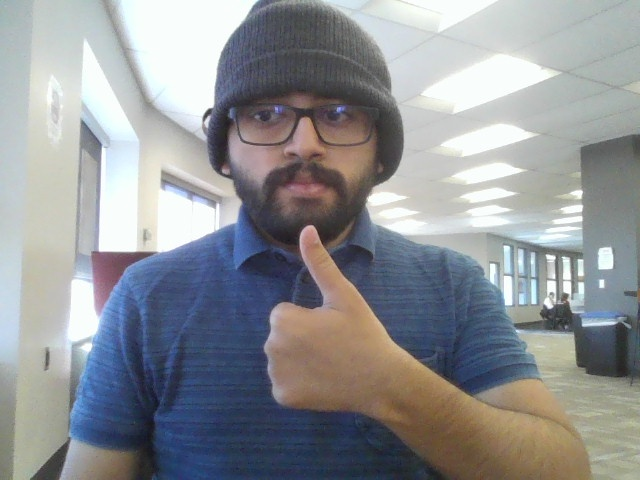confirm: (259, 220, 380, 433)
